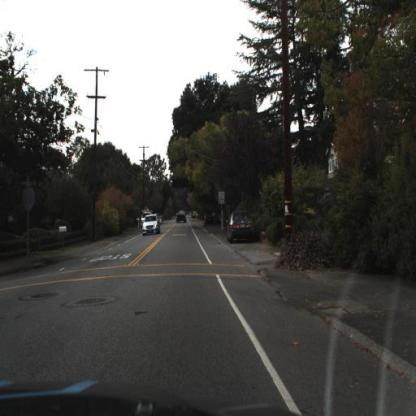car: (226, 209, 260, 246), (142, 212, 162, 239), (175, 208, 190, 227)
